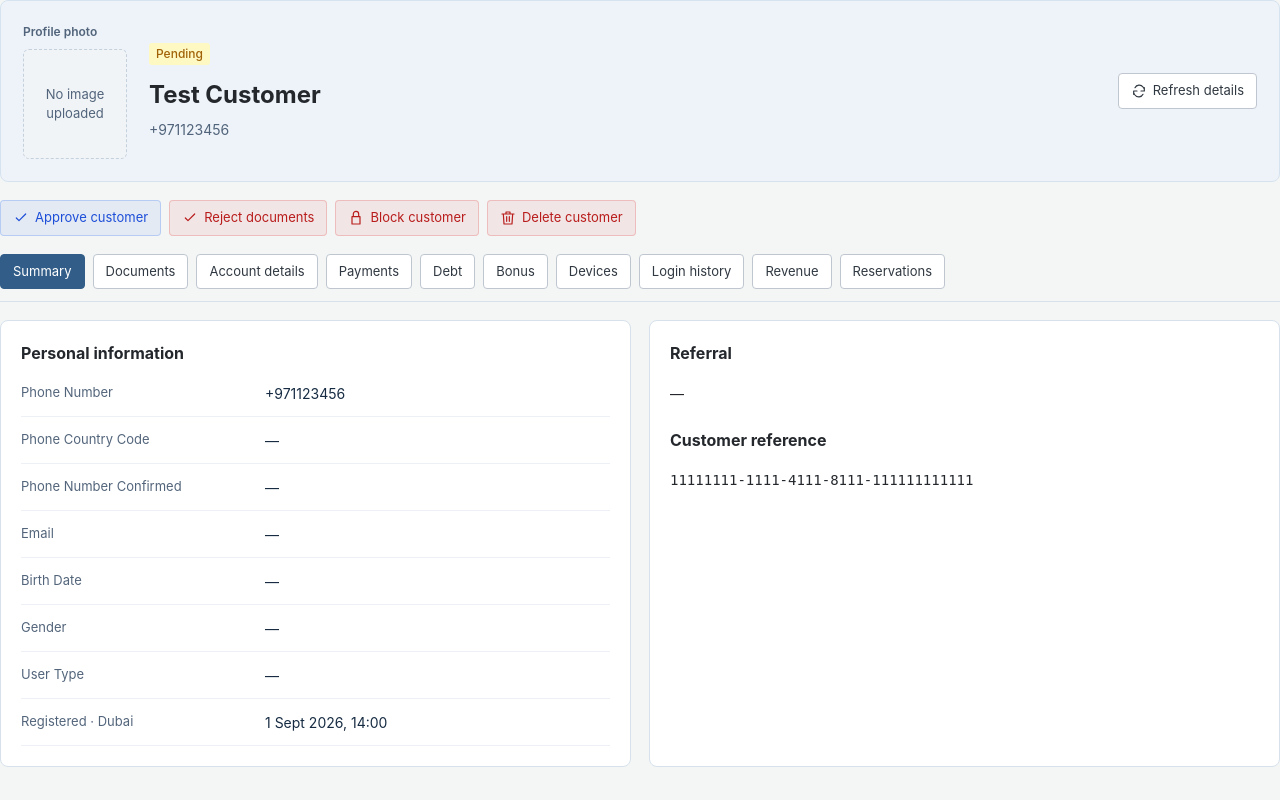
it: confirms once, refreshes approval and hides approve after success
Step 1. Click the button "Approve customer" → (81, 218), box [0, 200, 161, 236]
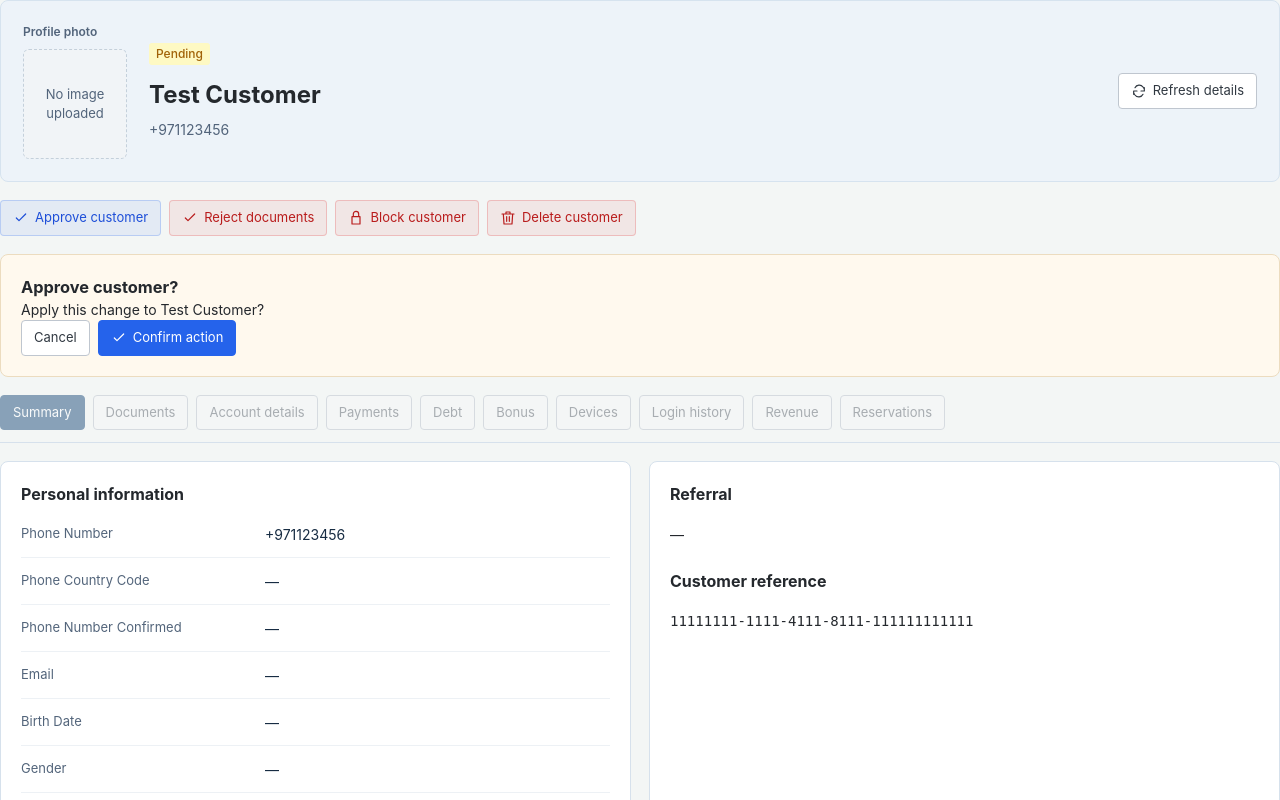
Step 2. Click the button "Confirm action" → (167, 338), box [98, 320, 236, 356]
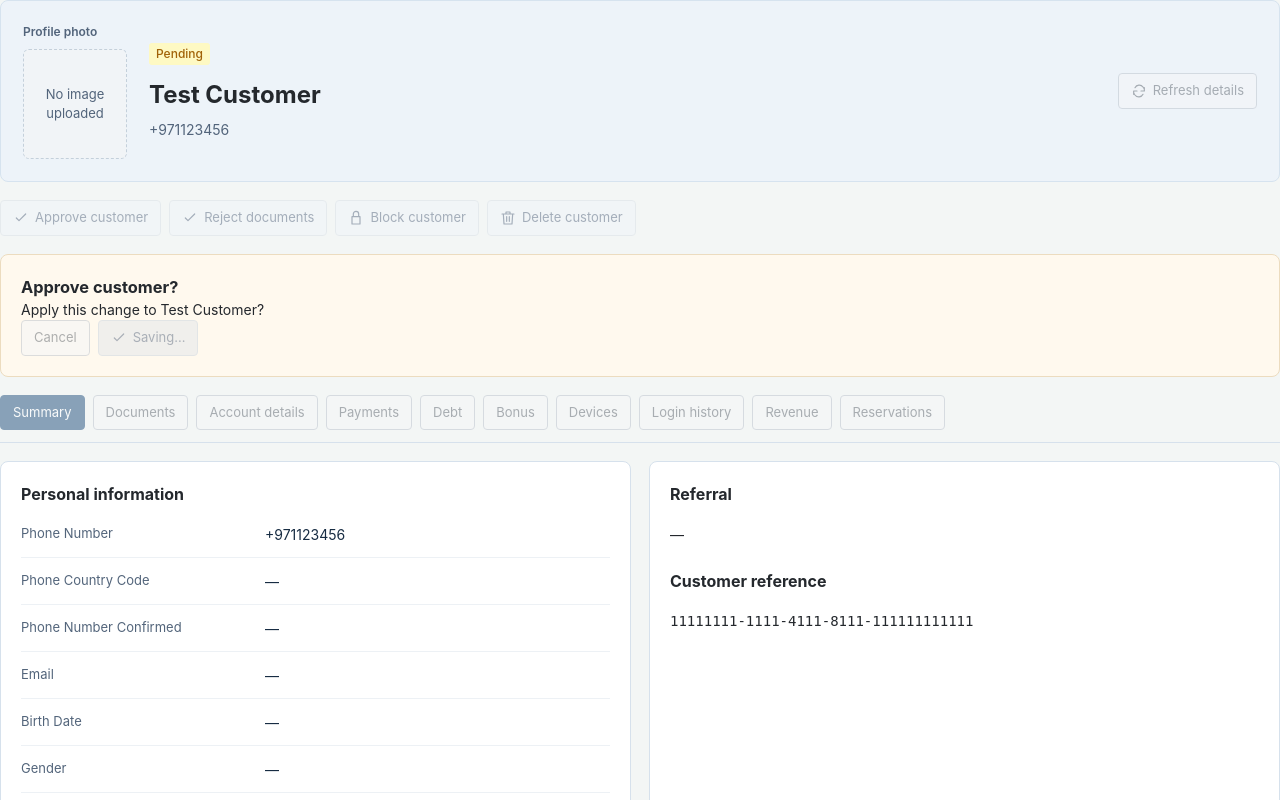
Step 3. Click the button named "Confirm action" → (148, 338), box [98, 320, 198, 356]
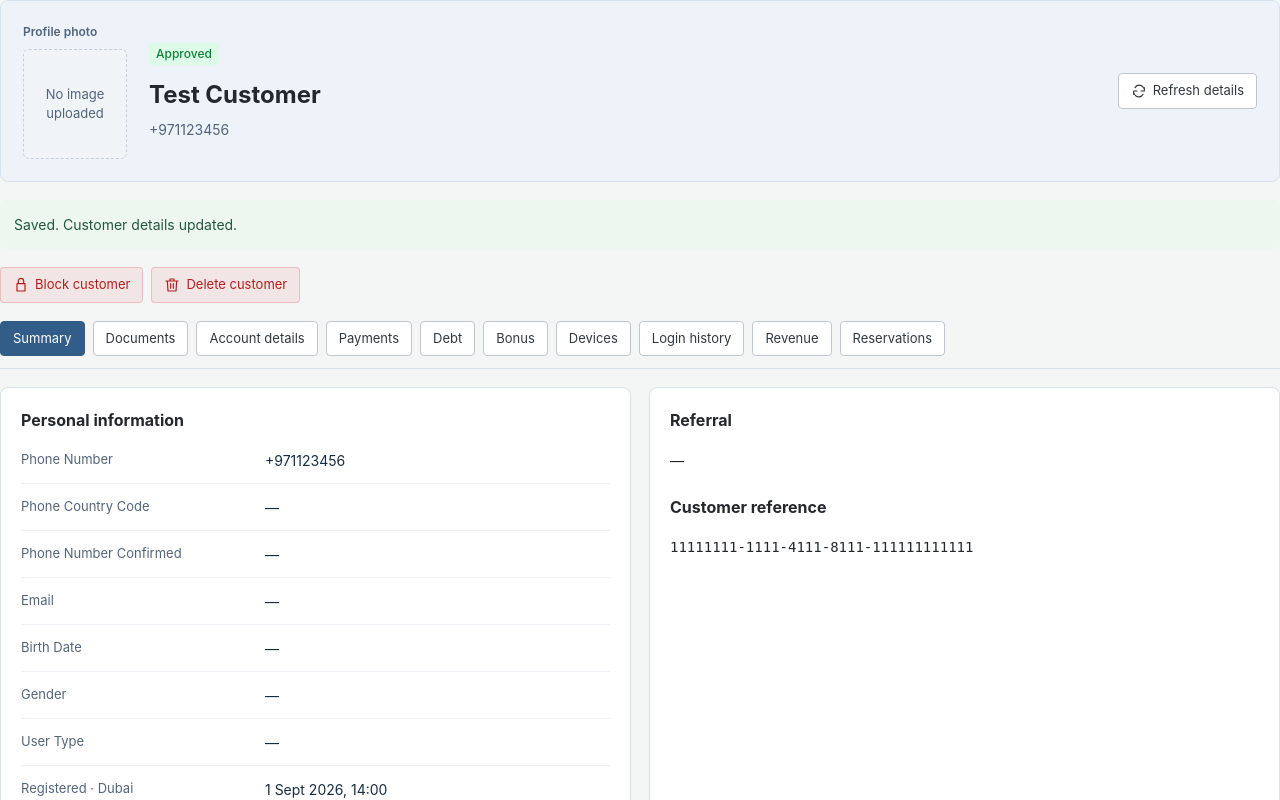
Now the text "Approved" is shown, box [149, 43, 219, 65]
Now the button "Approve customer" is gone
